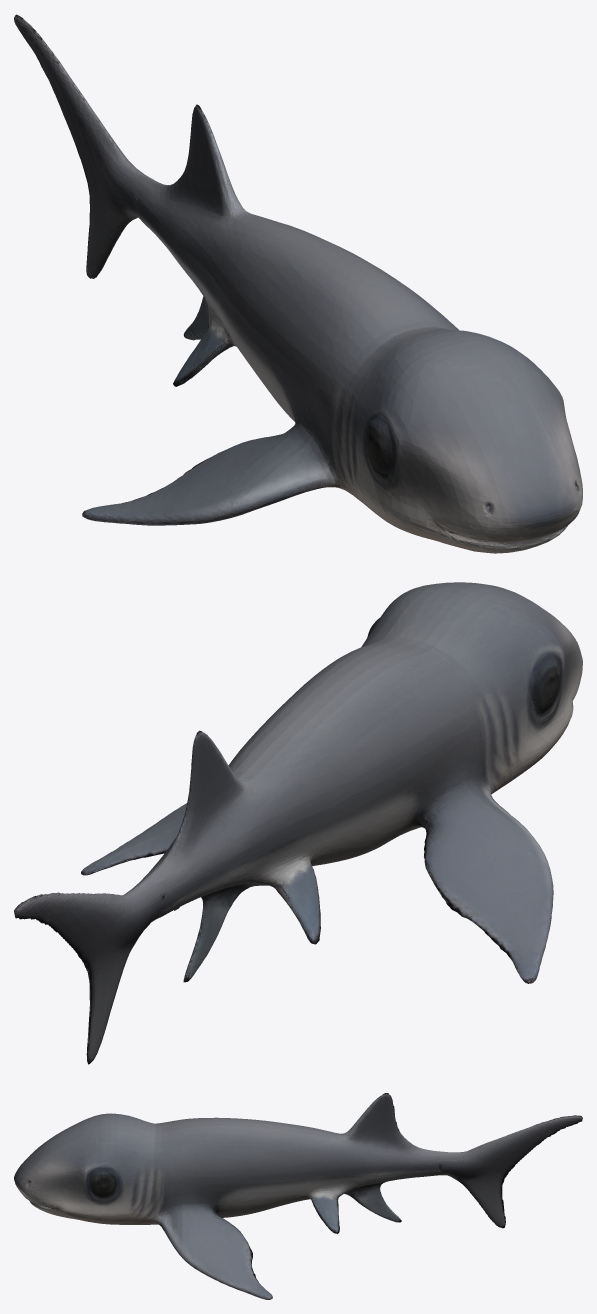
3 views of the same model, one above another, from view 1: azimuth 30°, elevation 25°; view 2: azimuth 150°, elevation 25°; view 3: azimuth 270°, elevation 25° (orthographic). The views are drawn at different scales.
Parts seen in each view (by area): view 1: world; view 2: world; view 3: world.
Boxes of the visible parts, x1,y1,x2,y2 form: world: (14,14,582,553); world: (14,582,582,1064); world: (14,1093,582,1299).
Bounding box in the file's own units: 0.4899 × 0.2878 × 0.9972.
Materials: 1 (1 with a texture image).
